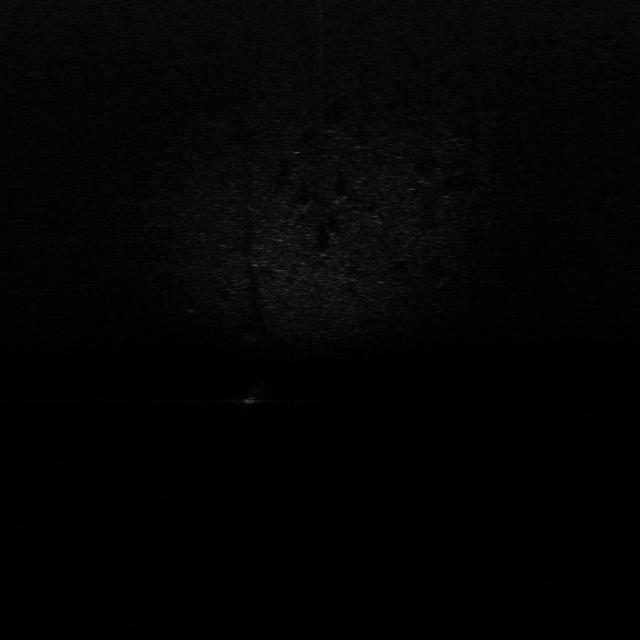human body: (238, 375, 274, 414)
